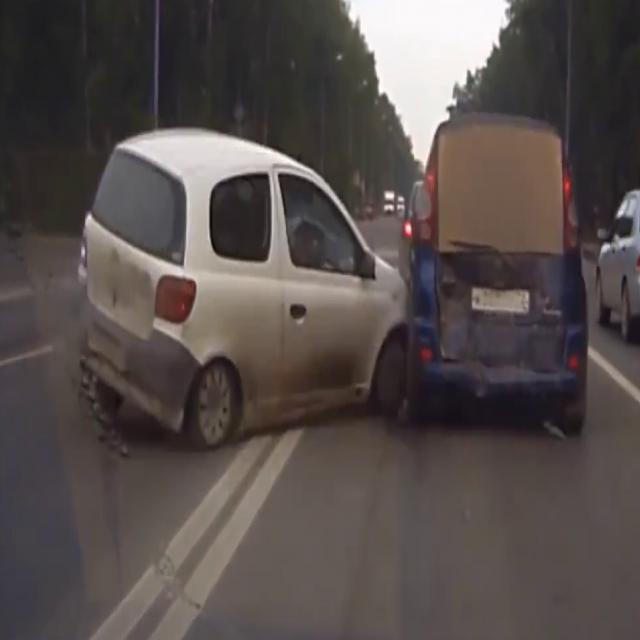accident: (110, 97, 588, 451)
